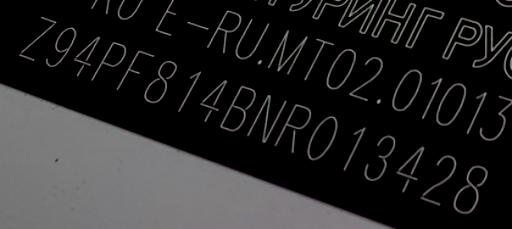letter: (270, 99, 314, 156), (450, 161, 494, 217), (244, 91, 290, 144), (419, 149, 459, 209), (392, 141, 432, 197), (217, 81, 259, 134), (16, 13, 58, 65), (304, 111, 342, 168), (360, 130, 400, 182), (114, 46, 158, 93), (336, 121, 372, 175), (169, 65, 205, 118), (88, 39, 130, 84), (140, 58, 180, 105), (198, 75, 234, 126), (44, 23, 80, 71), (70, 32, 104, 79)
